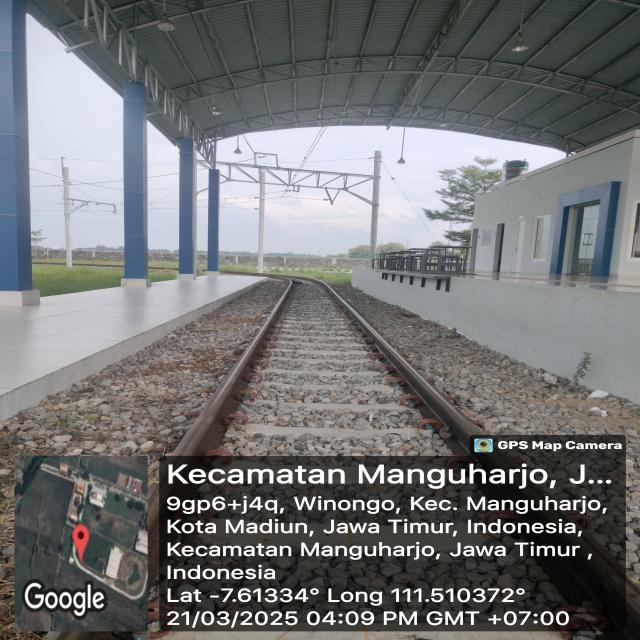rail-detection: (305, 280, 484, 455), (172, 280, 295, 455)
